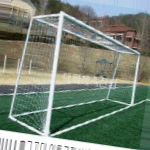goals: (8, 9, 142, 134)
